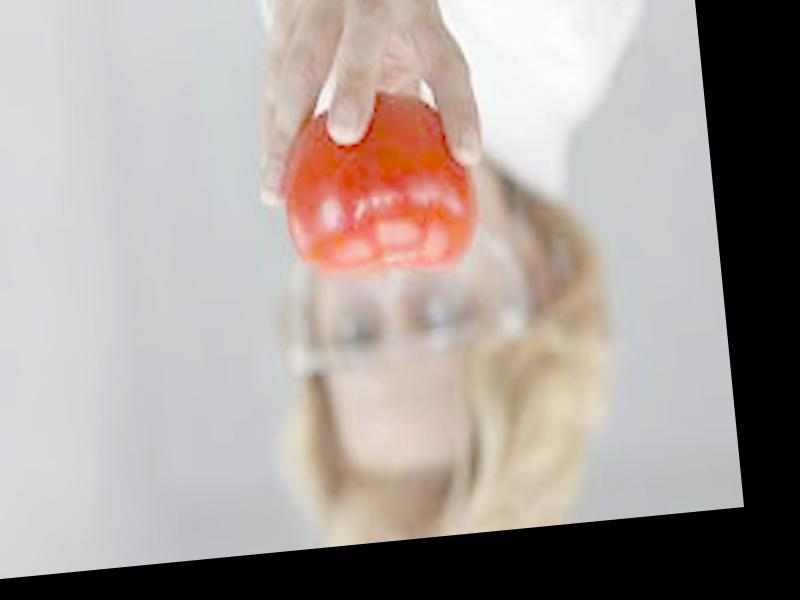Tomato: (277, 88, 487, 281)
